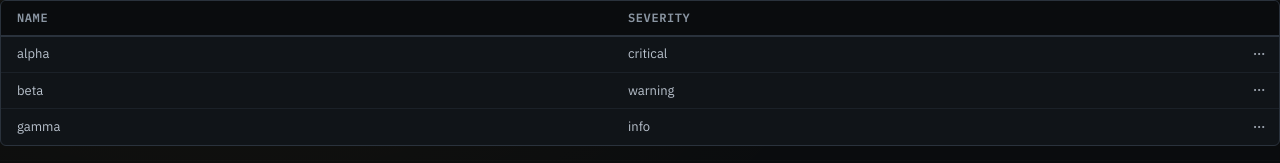
Test: DataTable › context menu › still leads with the selection Copy item ahead of the auto 'View details' entry
Right-click the text "alpha" at {"x": 33, "y": 54}, box [17, 45, 49, 62]
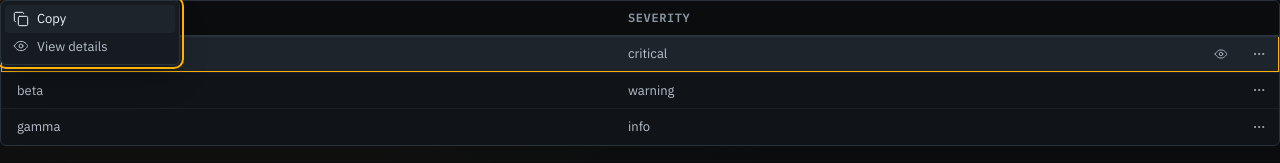
Result: the menu item "Copy" is shown at [5, 5, 175, 32]
Result: the menu item "View details" is shown at [13, 38, 108, 54]
